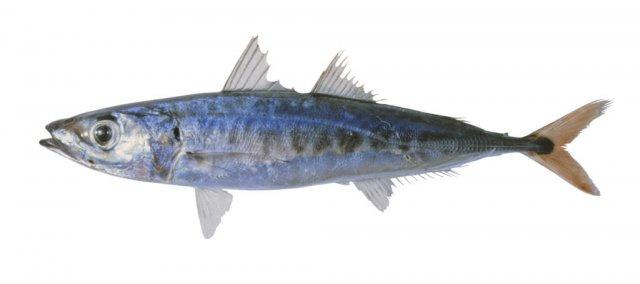Mulut: (26, 114, 68, 167)
Sirip Anal: (349, 160, 476, 224)
Sirip Dada: (180, 135, 284, 187)
Sirip Ekor: (524, 74, 626, 206)
Sirip Perut: (192, 180, 242, 242)
Sirip Punggung: (215, 24, 397, 108)
